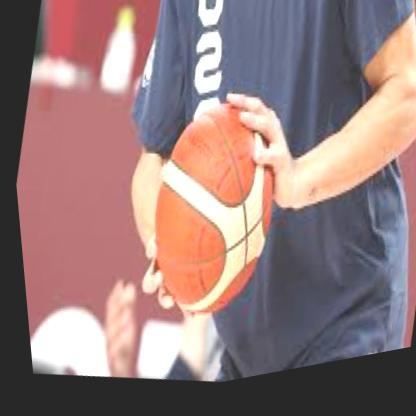basketball: (121, 96, 296, 340)
